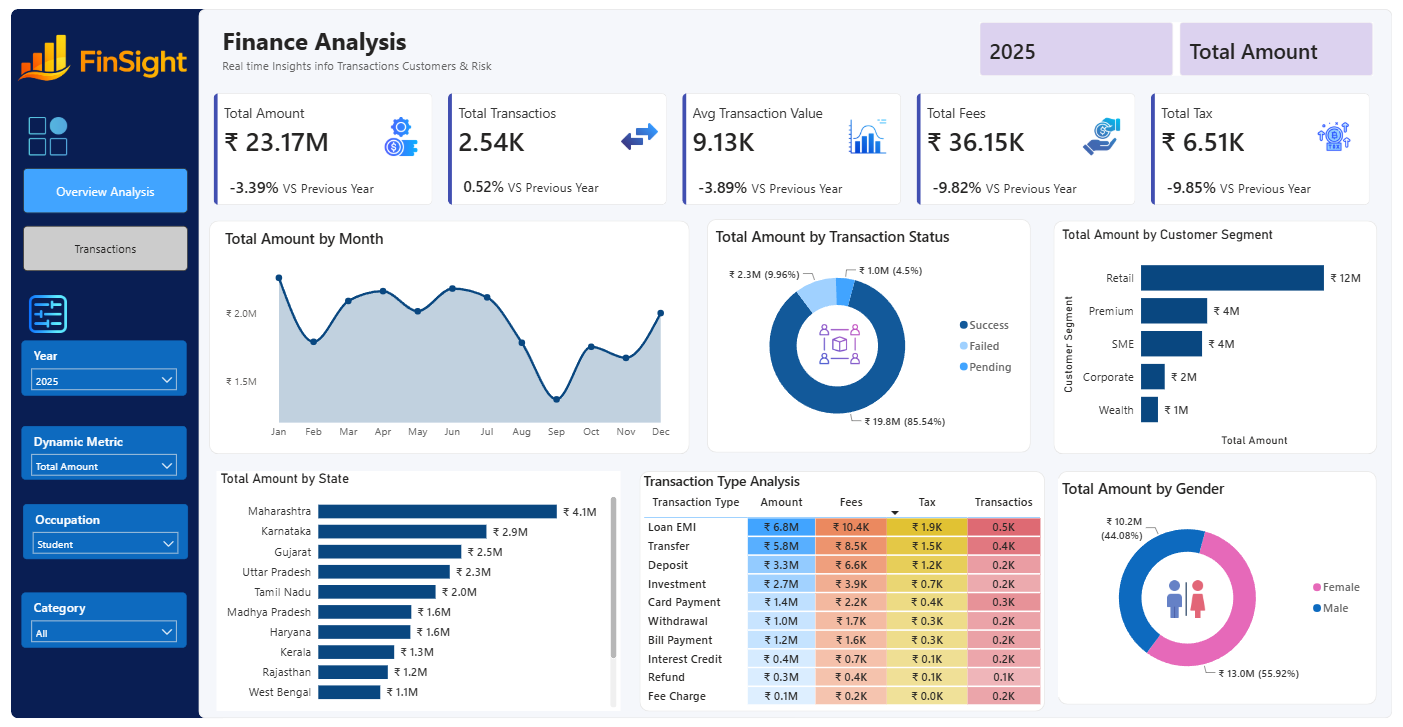

The page's visual inventory and layout, read from the dashboard file:
{"tool":"powerbi","page":{"name":"Overview Analysis","canvas":[1800,950],"ordinal":0},"visuals":[{"type":"shape","box":[15.5,19.9,279.1,908.1],"z":0},{"type":"shape","box":[254.7,19.9,1528.3,908.1],"z":1000},{"type":"image","box":[15.5,19.9,239.2,126.3],"z":2000},{"type":"cardVisual","fields":{"Data":["finance_transactions.Dashboard Title"]},"box":[269.2,19.2,408.1,102.6],"z":3000},{"type":"cardVisual","fields":{"Data":["finance_transactions.Total Amount","finance_transactions.Total Transactios","finance_transactions.Avg Transaction Value","finance_transactions.Total Fees","finance_transactions.Total Tax"]},"box":[269.2,121.8,1495.5,156],"z":4000},{"type":"slicer","fields":{"Values":["Caledar Table.Year"]},"box":[29.2,444.4,211.5,70.5],"z":5000},{"type":"image","box":[489.3,158.1,50,50],"z":6000},{"type":"image","box":[794.8,158.1,50,50],"z":7000},{"type":"image","box":[1087.5,158.1,50,50],"z":8000},{"type":"image","box":[1386.6,158.1,50,50],"z":9000},{"type":"image","box":[1683.5,158.1,50,50],"z":10000},{"type":"slicer","fields":{"Values":["Dynamic Metric.Dynamic Metric"]},"box":[29.2,553.3,211.5,68.4],"z":11000},{"type":"shape","box":[269.2,290.6,615.3,299.1],"z":12000},{"type":"areaChart","fields":{"Y":["finance_transactions.Total Amount"],"Category":["Caledar Table.Month"]},"box":[284.2,299.1,585.4,279.9],"z":13000},{"type":"cardVisual","fields":{"Data":["finance_transactions.Selected Year","finance_transactions.Selected Dynamic Metric"]},"box":[1249.8,29.9,514.9,79],"z":14000},{"type":"shape","box":[905.9,288.4,414.5,299.1],"z":15000},{"type":"donutChart","fields":{"Y":["finance_transactions.Total Amount"],"Category":["finance_transactions.transaction_status"]},"box":[912.3,297,399.5,279.9],"z":16000},{"type":"shape","box":[1350.3,290.6,414.5,299.1],"z":17000},{"type":"barChart","fields":{"Y":["finance_transactions.Total Amount"],"Category":["customers.customer_segment"]},"box":[1356.7,297,401.7,286.3],"z":18000},{"type":"shape","box":[820.4,611,519.2,308],"z":19000},{"type":"barChart","fields":{"Y":["finance_transactions.Total Amount"],"Category":["customers.state"]},"box":[277.7,611,517,307.7],"z":20000},{"type":"tableEx","title":"Transaction Type Analysis","fields":{"Values":["finance_transactions.transaction_type","finance_transactions.Total Amount","finance_transactions.Total Fees","finance_transactions.Total Tax","finance_transactions.Total Transactios"]},"box":[820.4,611,519.2,307.7],"z":21000},{"type":"shape","box":[1356.7,611,408.1,299.1],"z":22000},{"type":"donutChart","fields":{"Y":["finance_transactions.Total Amount"],"Category":["customers.gender"]},"box":[1356.7,619.6,401.7,279.9],"z":23000},{"type":"image","box":[1038.3,420.9,74.8,55.5],"z":24000},{"type":"image","box":[1482.7,747.8,74.8,55.5],"z":25000},{"type":"slicer","fields":{"Values":["customers.occupation"]},"box":[31.3,653.8,211.5,70.5],"z":26000},{"type":"slicer","fields":{"Values":["finance_transactions.merchant_category"]},"box":[29.2,767,211.5,70.5],"z":27000},{"type":"pageNavigator","box":[29.9,222.2,211.5,132.5],"z":28000},{"type":"image","box":[32,158.1,59.8,49.1],"z":29000},{"type":"image","box":[32,382.4,59.8,55.5],"z":30000}]}

Visuals, with their boxes on the page's 1800x950 design canvas (x1, y1, x2, y2). These are canvas units, not pixel positions in the 1403x727 screenshot, which may show the page scaled, cropped or inside an application window:
shape: 16, 20, 295, 928
shape: 255, 20, 1783, 928
image: 16, 20, 255, 146
cardVisual - finance_transactions.Dashboard Title: 269, 19, 677, 122
cardVisual - finance_transactions.Total Amount x finance_transactions.Total Transactios: 269, 122, 1765, 278
slicer - Caledar Table.Year: 29, 444, 241, 515
image: 489, 158, 539, 208
image: 795, 158, 845, 208
image: 1088, 158, 1138, 208
image: 1387, 158, 1437, 208
image: 1684, 158, 1734, 208
slicer - Dynamic Metric.Dynamic Metric: 29, 553, 241, 622
shape: 269, 291, 884, 590
areaChart - finance_transactions.Total Amount x Caledar Table.Month: 284, 299, 870, 579
cardVisual - finance_transactions.Selected Year x finance_transactions.Selected Dynamic Metric: 1250, 30, 1765, 109
shape: 906, 288, 1320, 588
donutChart - finance_transactions.Total Amount x finance_transactions.transaction_status: 912, 297, 1312, 577
shape: 1350, 291, 1765, 590
barChart - finance_transactions.Total Amount x customers.customer_segment: 1357, 297, 1758, 583
shape: 820, 611, 1340, 919
barChart - finance_transactions.Total Amount x customers.state: 278, 611, 795, 919
"Transaction Type Analysis" tableEx: 820, 611, 1340, 919
shape: 1357, 611, 1765, 910
donutChart - finance_transactions.Total Amount x customers.gender: 1357, 620, 1758, 900
image: 1038, 421, 1113, 476
image: 1483, 748, 1558, 803
slicer - customers.occupation: 31, 654, 243, 724
slicer - finance_transactions.merchant_category: 29, 767, 241, 838
pageNavigator: 30, 222, 241, 355
image: 32, 158, 92, 207
image: 32, 382, 92, 438
